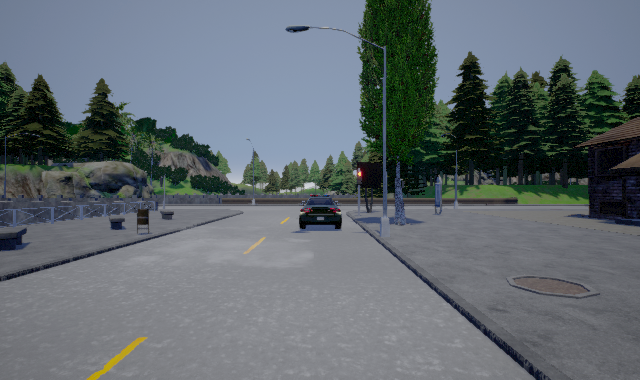traffic_light: (357, 169, 362, 187)
vehicle: (299, 195, 342, 229)
